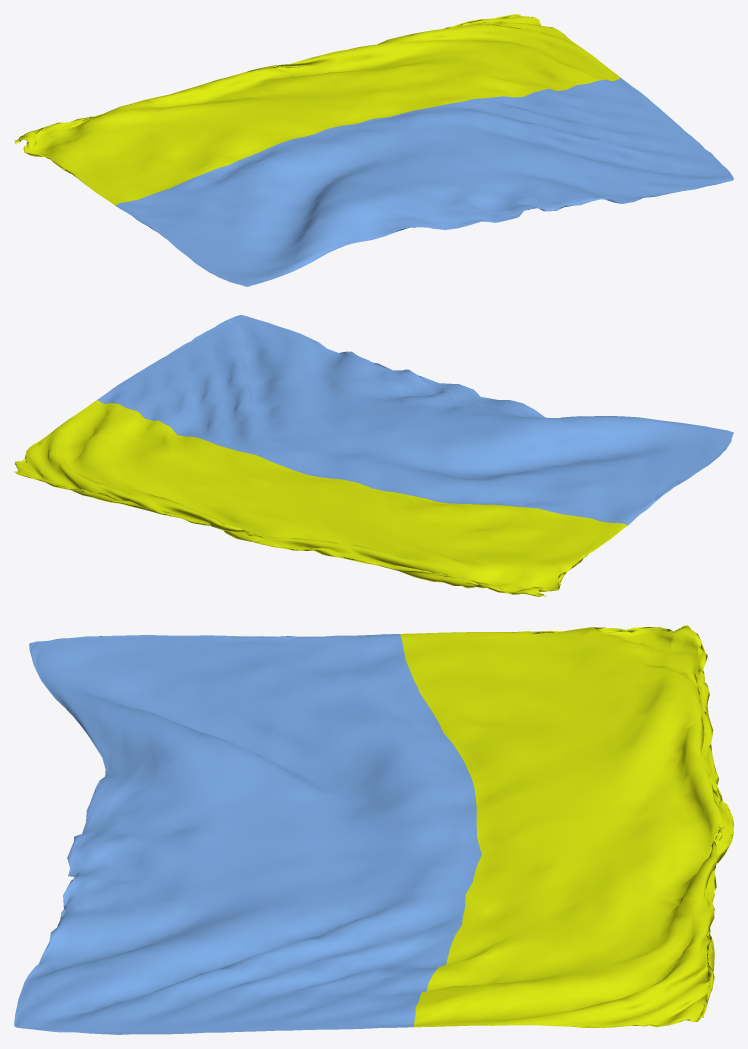
The model's file is flag.fbx.
3 renders of one model, top to bottom at view 1: azimuth 30°, elevation 25°; view 2: azimuth 150°, elevation 25°; view 3: azimuth 270°, elevation 25°, orthographic. The views are drawn at different scales.
Parts seen in each view (by area): view 1: Plane; view 2: Plane; view 3: Plane.
Boxes of the visible parts, x1=… form: Plane: x1=14, y1=14, x2=733, y2=286; Plane: x1=14, y1=315, x2=733, y2=596; Plane: x1=14, y1=625, x2=733, y2=1034.
Bounding box in the file's own units: 470 × 20.56 × 354.
